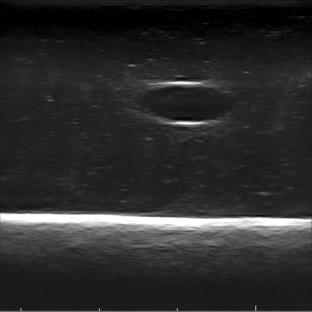vessel: (132, 81, 236, 128)
